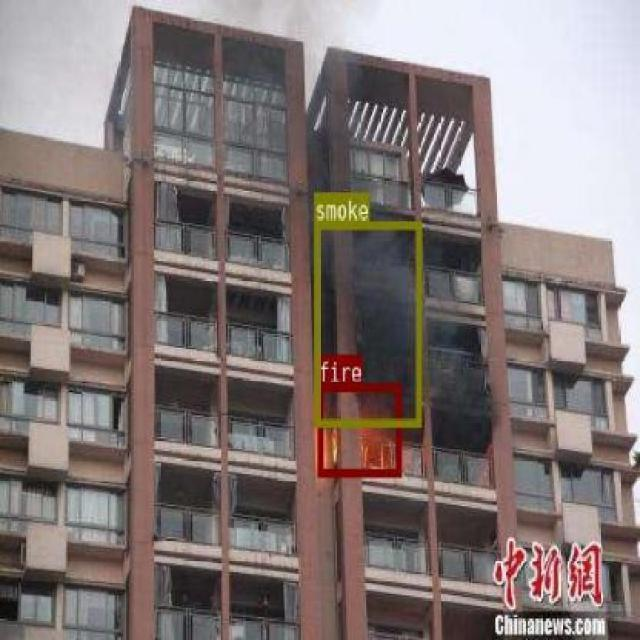Fire: (310, 388, 413, 473)
Smoke: (312, 202, 467, 435)
